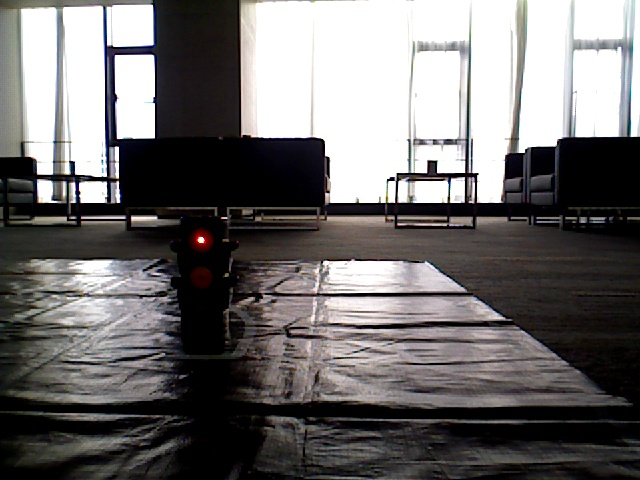red: (176, 209, 226, 321)
